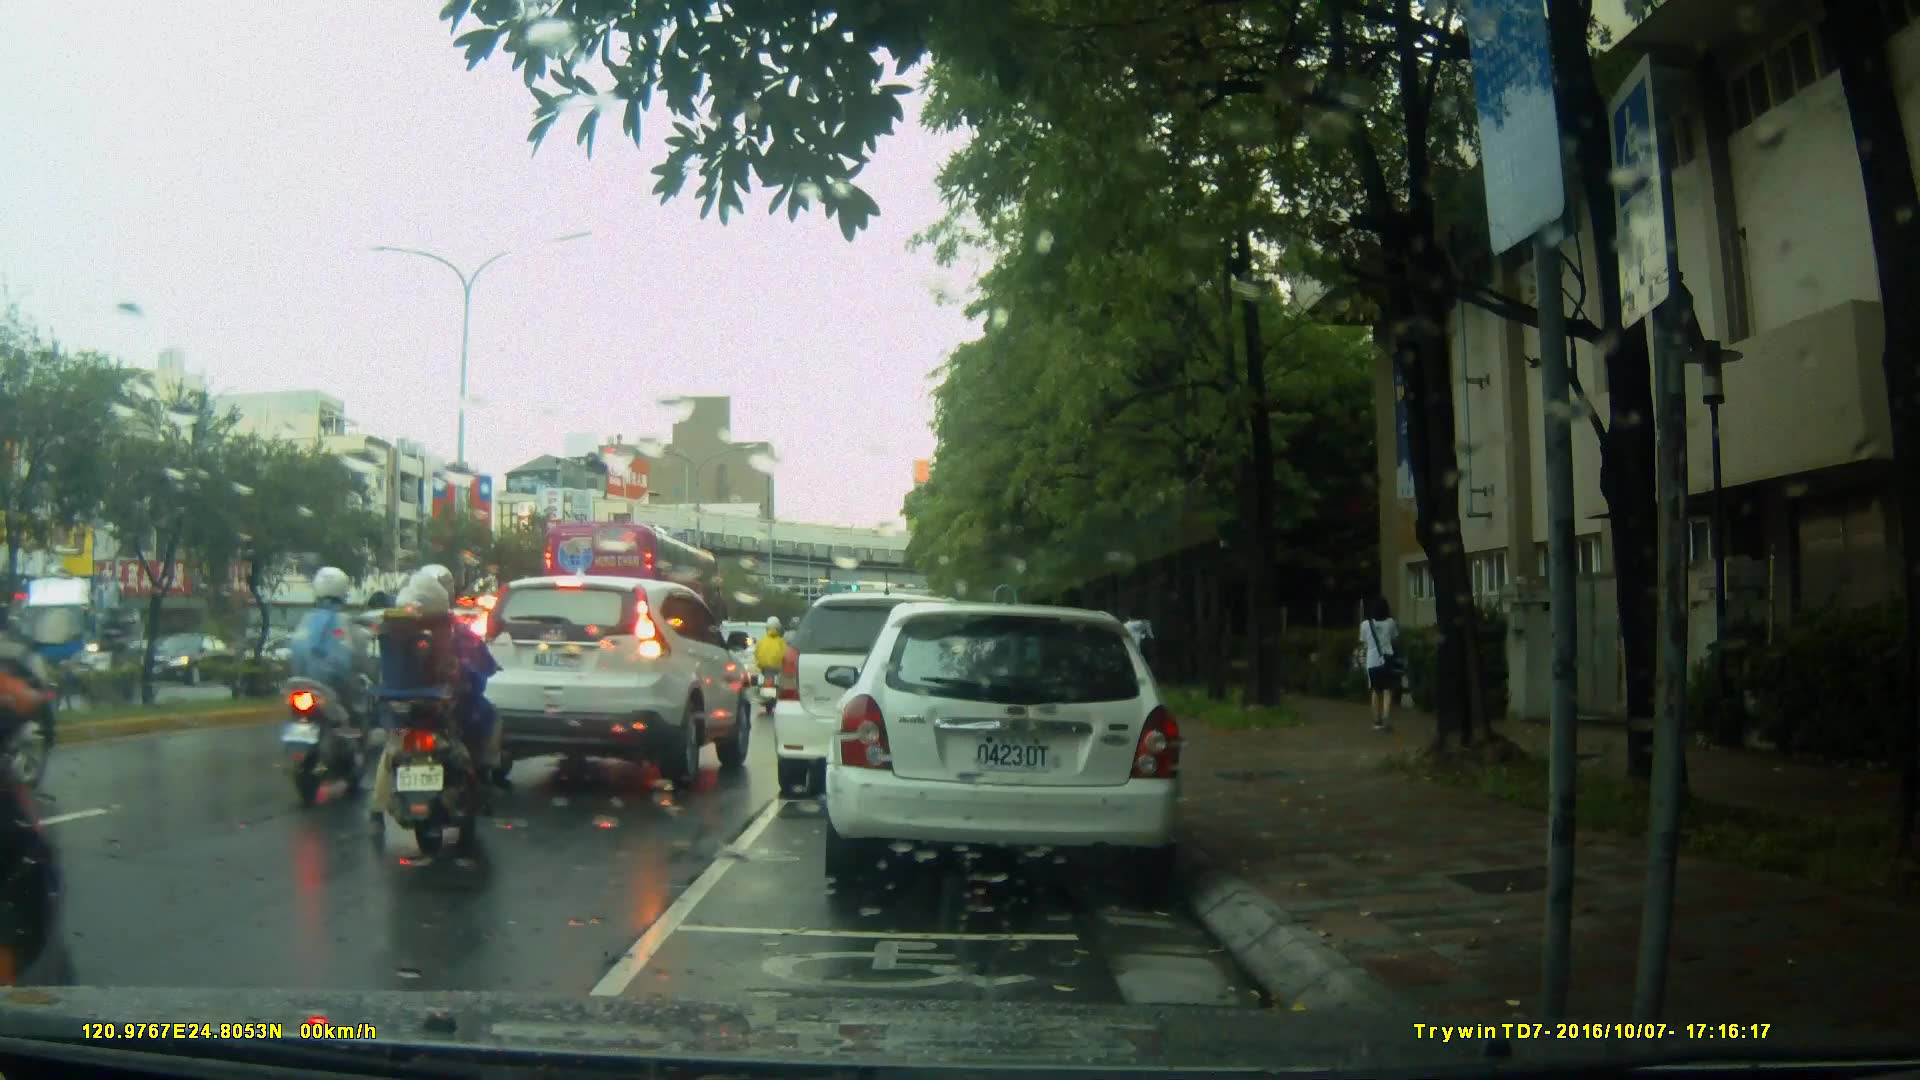pedestrian: (1345, 583, 1413, 749), (1119, 601, 1160, 694)
rider: (337, 558, 504, 848), (290, 572, 378, 799), (757, 614, 790, 713)
vehicle: (835, 594, 1194, 898), (465, 575, 763, 792), (776, 590, 1026, 784), (537, 518, 728, 641), (20, 573, 130, 686)
